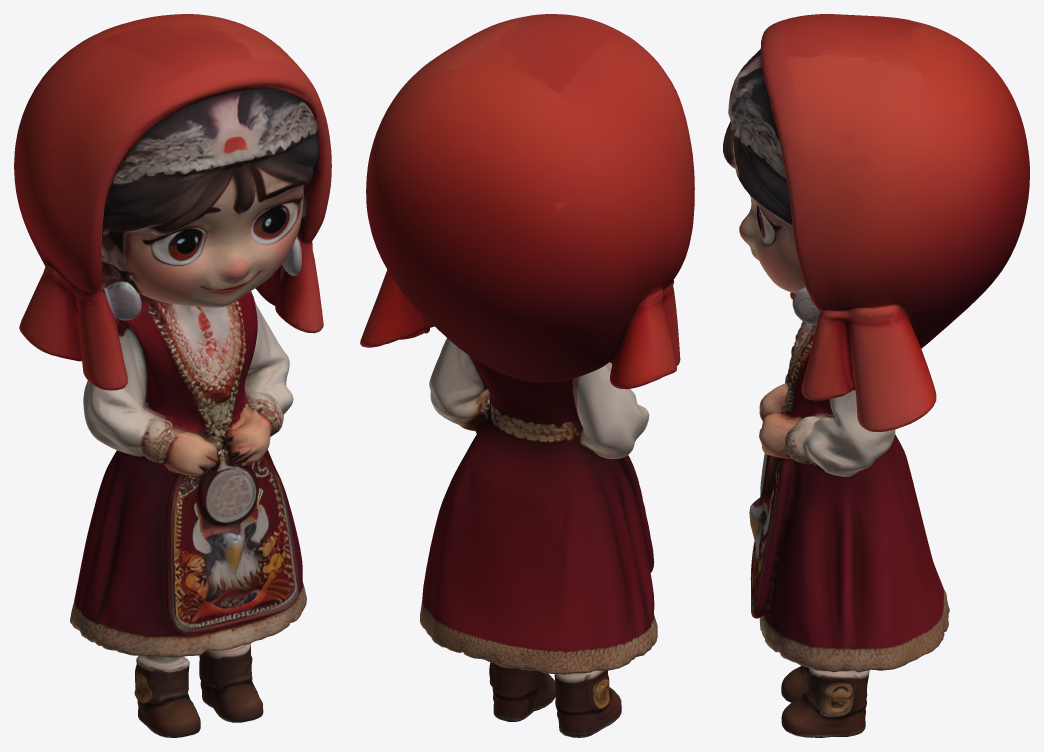
The model's file is romantex_44.glb.
The picture shows the model from 3 angles, left to right: view 1: azimuth 30°, elevation 25°; view 2: azimuth 150°, elevation 25°; view 3: azimuth 270°, elevation 25°; orthographic projection. The views are drawn at different scales.
Parts seen in each view (by area): view 1: texture_v130_hdr_21w_pbr_dino_11w.001; view 2: texture_v130_hdr_21w_pbr_dino_11w.001; view 3: texture_v130_hdr_21w_pbr_dino_11w.001.
Boxes of the visible parts, <box> form: texture_v130_hdr_21w_pbr_dino_11w.001: <box>14,14,331,737</box>; texture_v130_hdr_21w_pbr_dino_11w.001: <box>360,14,694,737</box>; texture_v130_hdr_21w_pbr_dino_11w.001: <box>723,14,1029,737</box>.
Bounding box in the file's own units: 0.9156 × 2 × 0.8151.
Materials: 1 (1 with a texture image).
